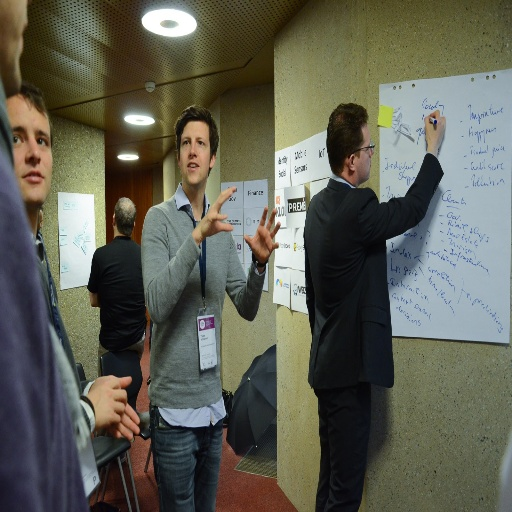hand: (196, 184, 237, 241), (107, 377, 141, 442), (250, 208, 286, 269), (85, 378, 126, 428), (424, 109, 447, 150)
